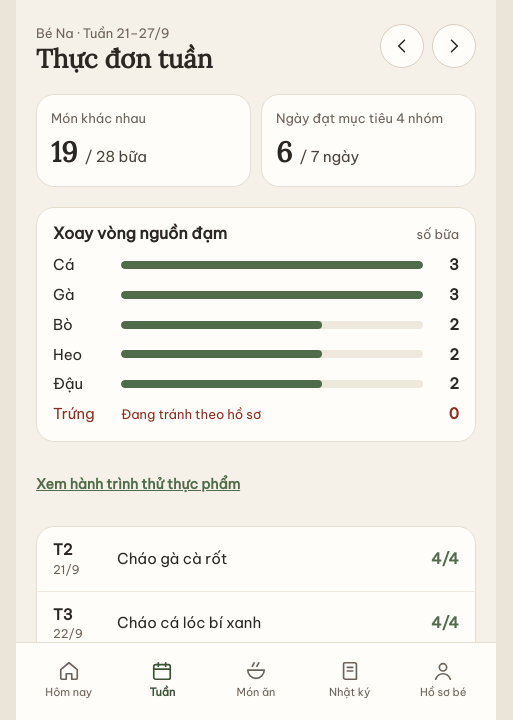
Week (S04, UC-12) › moves to the previous and next weeks through ?start=
This screenshot has width=513, height=720.
Check: the text "Món khác nhau" is shown, box [51, 110, 146, 126]
Click the button named "Tuần sau" at [454, 46], box [432, 24, 476, 68]
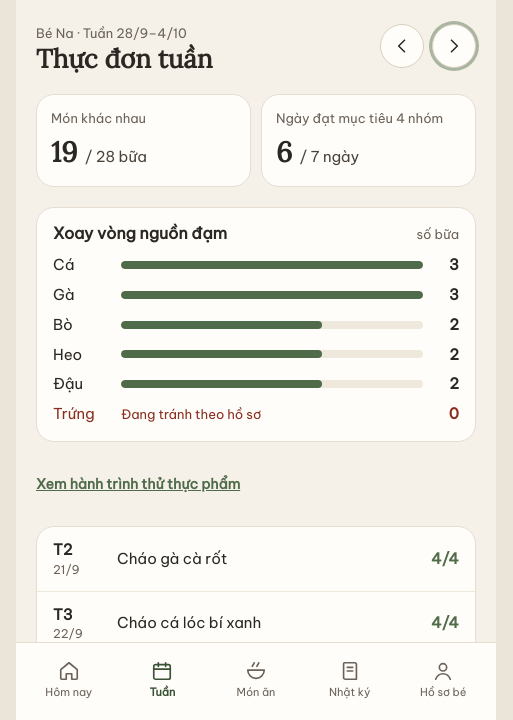
Check: the text "Bé Na · Tuần 28/9–4/10" is shown, box [36, 24, 213, 43]
Click the button named "Tuần trước" at [402, 46], box [380, 24, 424, 68]
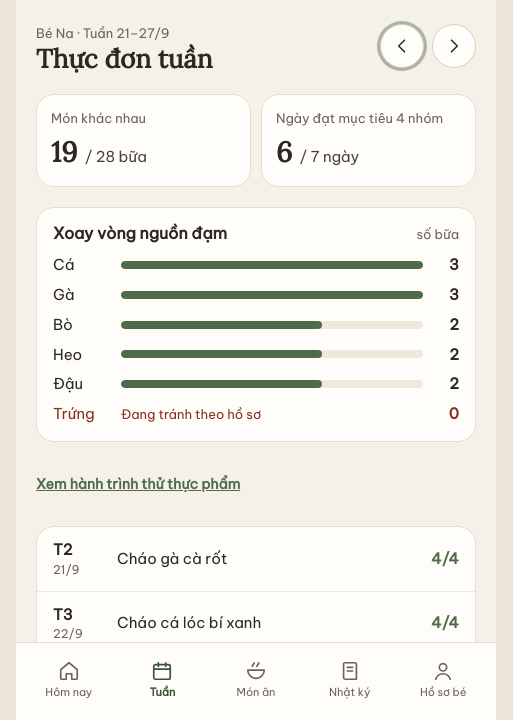
Click the button named "Tuần trước" at [402, 46], box [380, 24, 424, 68]
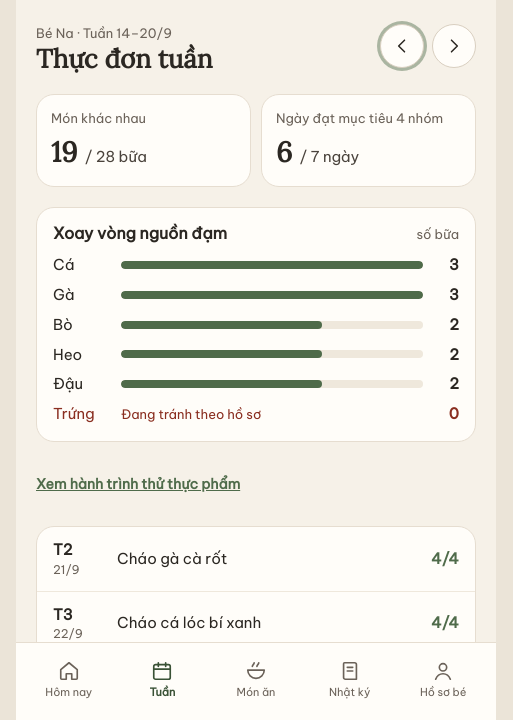
Check: the text "Bé Na · Tuần 14–20/9" is shown, box [36, 25, 172, 41]
